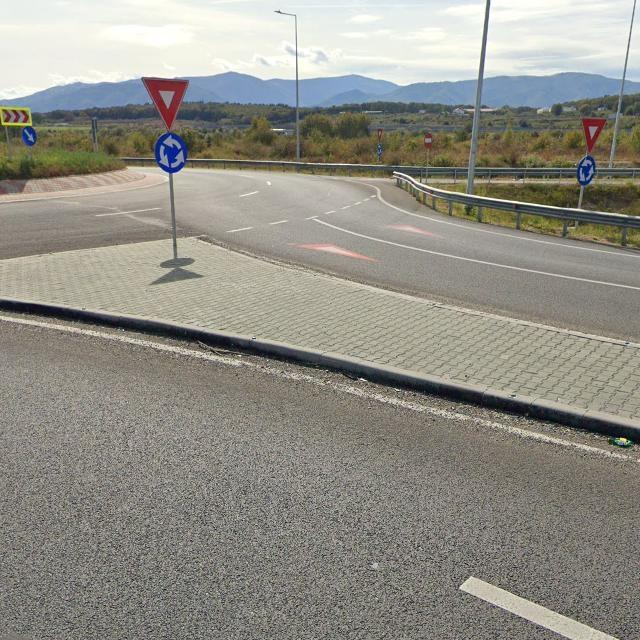prio_give_way: (140, 77, 190, 131), (289, 241, 382, 261), (581, 117, 608, 153)
